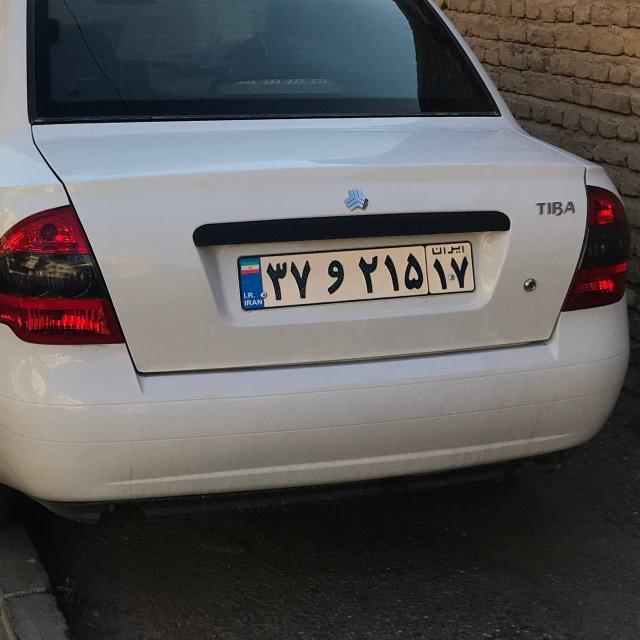Plates: (237, 237, 476, 310)
